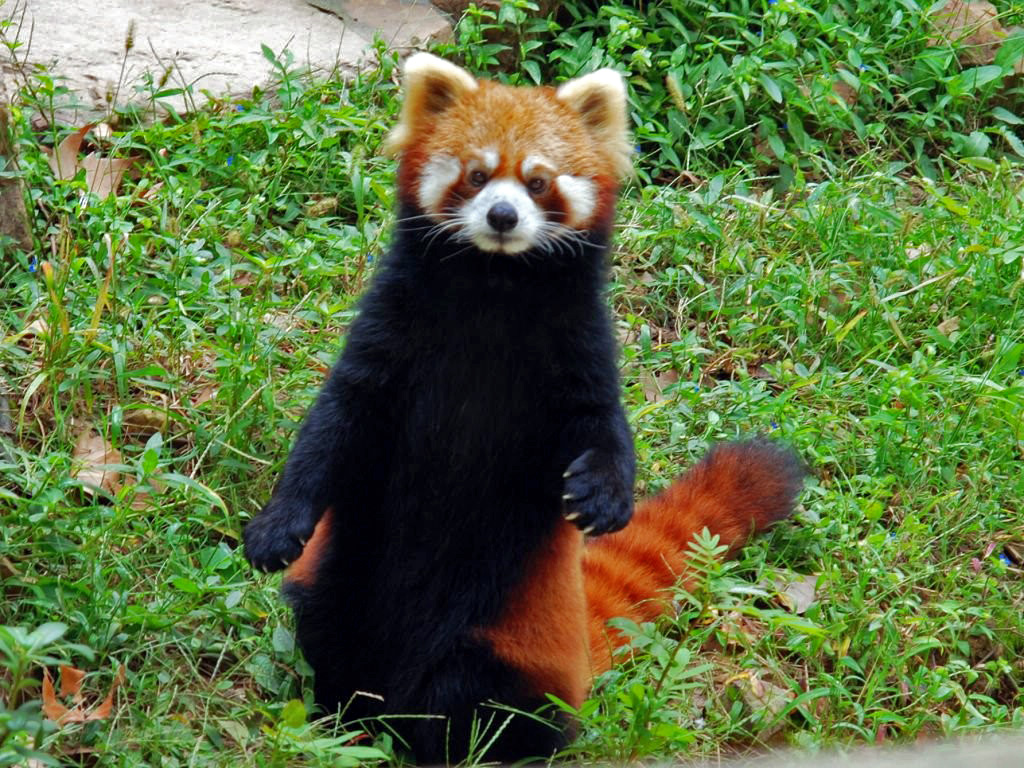red_panda: (253, 44, 789, 752)
